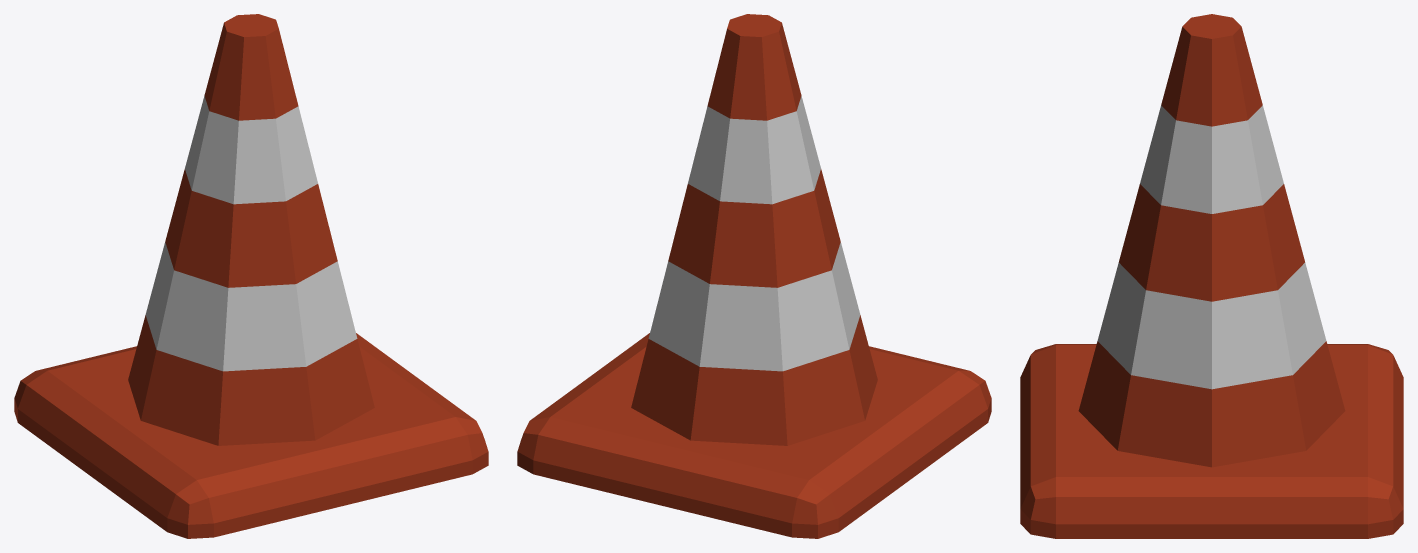
The model's file is RoadSign_02.glb.
3 renders of one model, left to right at view 1: azimuth 30°, elevation 25°; view 2: azimuth 150°, elevation 25°; view 3: azimuth 270°, elevation 25°, orthographic. The views are drawn at different scales.
Visible parts, largest first — view 1: RoadSign_02; view 2: RoadSign_02; view 3: RoadSign_02.
Part boxes in pixels (box(x1,y1,x2,y2)): RoadSign_02: box(14, 14, 488, 538); RoadSign_02: box(517, 14, 991, 538); RoadSign_02: box(1020, 14, 1403, 538).
Size of the model in its own units: 0.3834 by 0.4763 by 0.3834.
Materials: 1 (1 with a texture image).
